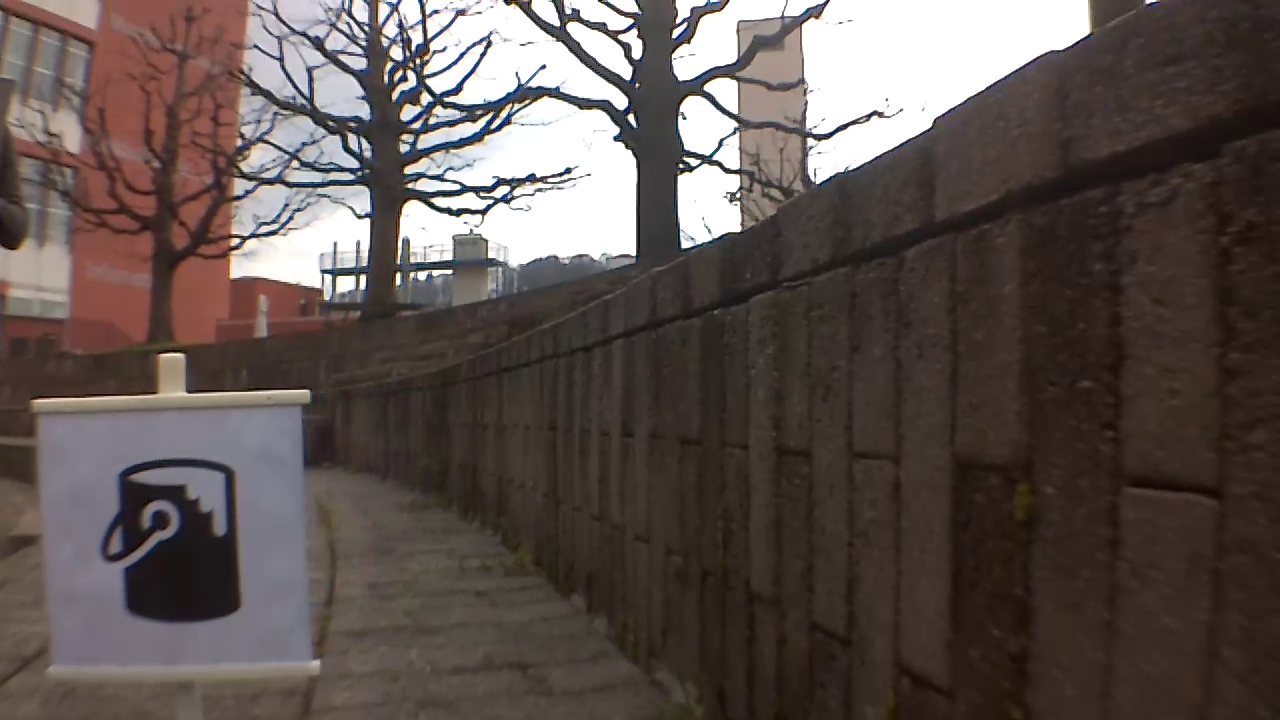bucket: (98, 459, 242, 630)
